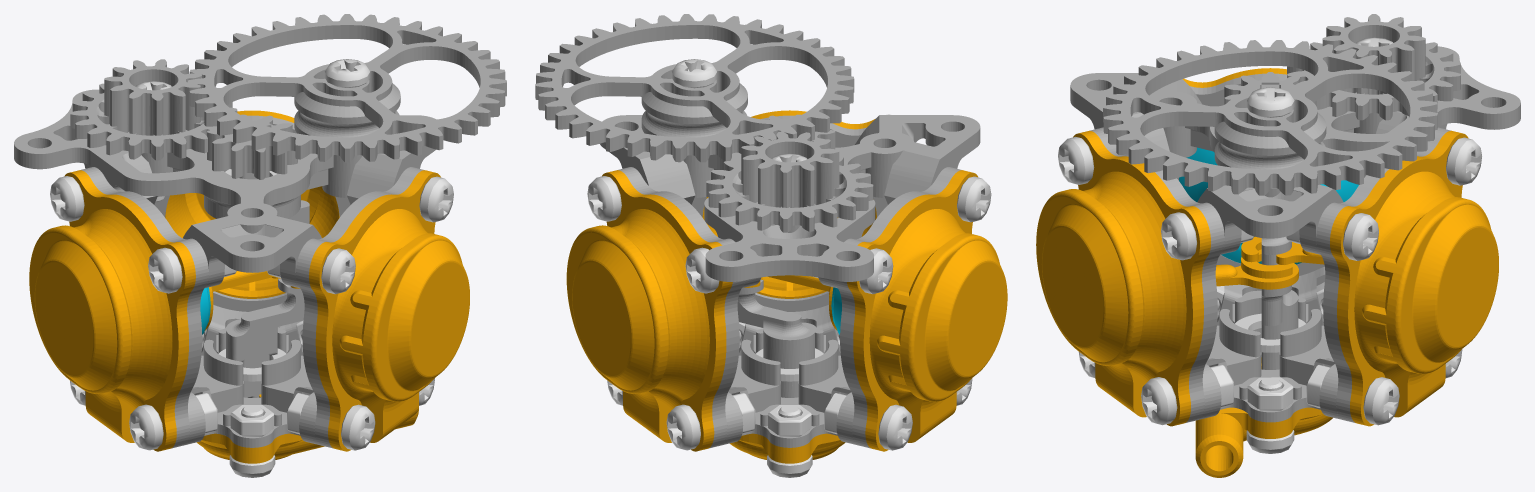
File: bike.glb
3 renders of one model, left to right at view 1: azimuth 30°, elevation 25°; view 2: azimuth 150°, elevation 25°; view 3: azimuth 270°, elevation 25°, orthographic. The views are drawn at different scales.
Visible parts, largest first — view 1: Lid1, Lid.001, polySurface11, polySurface9, polySurface12, polySurface2, polySurface13, Plate.002, Plate, Lid, polySurface10, polySurface3 (+14 smaller); view 2: Lid, Lid1, polySurface11, polySurface9, polySurface12, polySurface2, polySurface13, Plate, Plate.001, polySurface3, Plate.002, Bolt2 (+12 smaller); view 3: Lid.001, Lid, polySurface11, polySurface9, polySurface2, polySurface12, polySurface3, Plate.001, Plate.002, polySurface13, Bolt2.001, Bolt4.002 (+17 smaller).
Boxes of the visible parts, x1,y1,x2,y2 form: Lid1: (29,170,195,451); Lid.001: (309,170,469,451); polySurface11: (188,14,506,162); polySurface9: (14,89,436,288); polySurface12: (70,59,237,160); polySurface2: (184,305,319,447); polySurface13: (226,119,309,397); Plate.002: (296,167,424,448); Plate: (80,167,208,448); Lid: (165,110,338,290); polySurface10: (207,114,297,179); polySurface3: (197,408,418,463); Lid: (566,170,732,451); Lid1: (847,170,1007,451); polySurface11: (535,14,854,162); polySurface9: (600,115,980,288); polySurface12: (706,131,873,232); polySurface2: (722,305,857,447); polySurface13: (737,119,814,397); Plate: (834,167,961,448); Plate.001: (618,167,745,448); polySurface3: (730,433,845,463); Plate.002: (691,115,887,311); Bolt2: (878,404,912,450); Lid.001: (1036,130,1210,426); Lid: (1330,130,1498,426); polySurface11: (1103,40,1437,195); polySurface9: (1070,46,1520,254); polySurface2: (1199,266,1341,422); polySurface12: (1287,14,1460,120); polySurface3: (1195,407,1332,477); Plate.001: (1316,127,1450,422); Plate.002: (1090,127,1224,422); polySurface13: (1261,76,1298,369); Bolt2.001: (1363,377,1399,425); Bolt4.002: (1058,136,1094,184).
Bounding box in the file's own units: 3.05 × 2.43 × 2.9.
